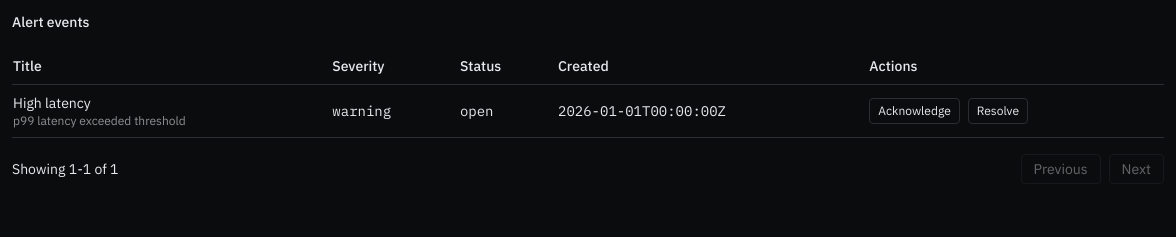
Scenario: AlertEventsTab › a stale status update (422 invalid transition) surfaces an error and refetches
Expected: the text "High latency" is shown, [13,94,91,112]
What coordinates should you click on to do the following:
click the button "Acknowledge"
I would click on:
 (915, 111)
Its box is [869,98,960,124].
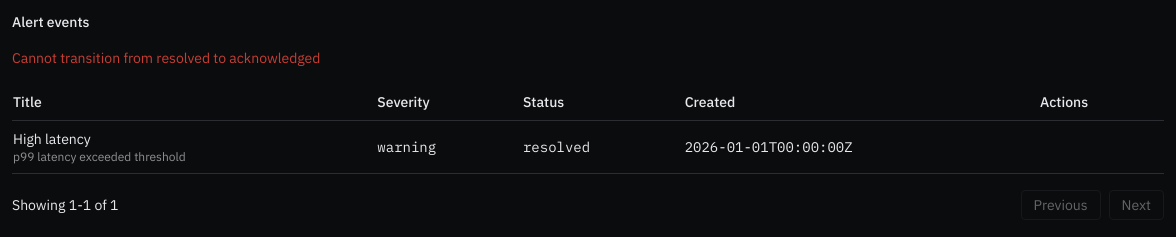
Expected: the text "Cannot transition from resolved to acknowledged" is shown, [12,49,320,67]
